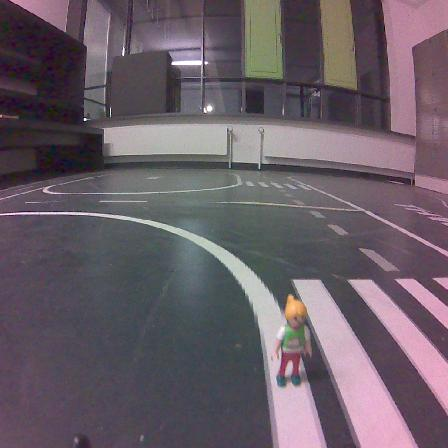CHILD: (271, 294, 311, 386)
